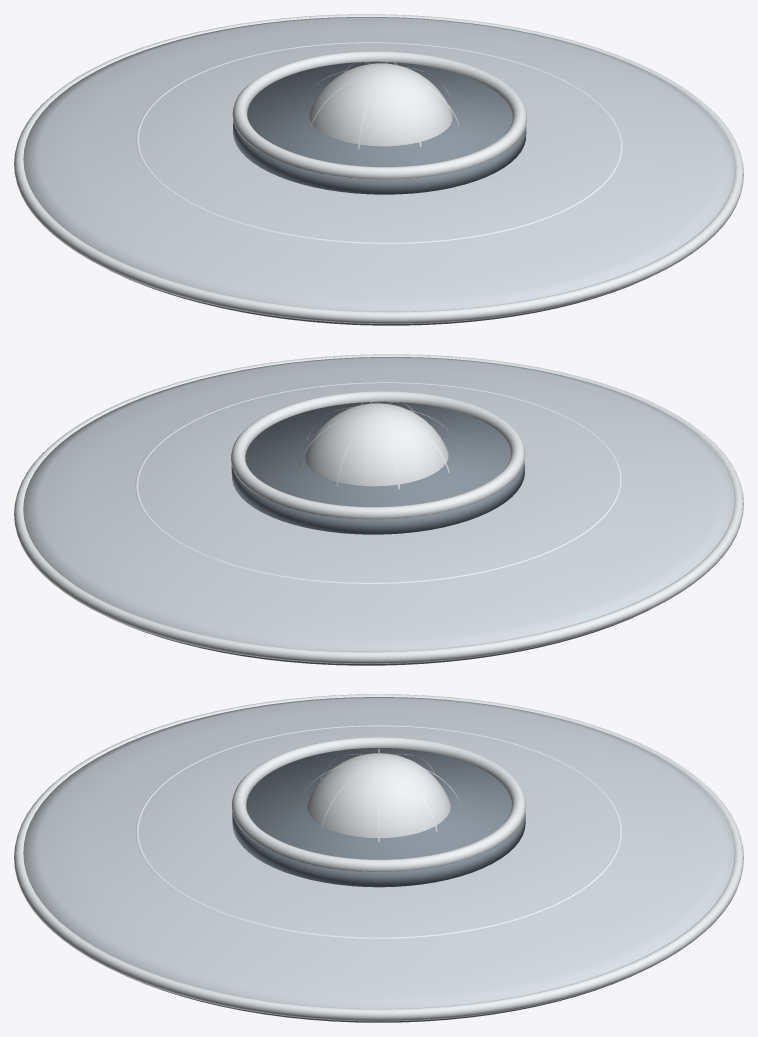
The model's file is Ufo.glb.
The picture shows the model from 3 angles, top to bottom: view 1: azimuth 30°, elevation 25°; view 2: azimuth 150°, elevation 25°; view 3: azimuth 270°, elevation 25°; orthographic projection.
Parts seen in each view (by area): view 1: Classic Flying Saucer Hull.001, Cockpit Circular Base, Chrome Outer Rim, Silver Dome Top, Cockpit Chrome Ring, Upper Hull Trim, Dark Rim Stripe; view 2: Classic Flying Saucer Hull.001, Cockpit Circular Base, Chrome Outer Rim, Silver Dome Top, Cockpit Chrome Ring, Upper Hull Trim, Dark Rim Stripe; view 3: Classic Flying Saucer Hull.001, Cockpit Circular Base, Chrome Outer Rim, Silver Dome Top, Cockpit Chrome Ring, Upper Hull Trim, Dark Rim Stripe.
Part boxes in pixels (<box>): Classic Flying Saucer Hull.001: <box>23,17,734,311</box>; Cockpit Circular Base: <box>233,61,526,194</box>; Chrome Outer Rim: <box>14,14,743,323</box>; Silver Dome Top: <box>309,63,452,146</box>; Cockpit Chrome Ring: <box>232,51,526,179</box>; Upper Hull Trim: <box>136,42,622,243</box>; Dark Rim Stripe: <box>110,270,646,325</box>; Classic Flying Saucer Hull.001: <box>23,357,734,651</box>; Cockpit Circular Base: <box>231,401,524,534</box>; Chrome Outer Rim: <box>14,354,743,663</box>; Silver Dome Top: <box>305,403,448,486</box>; Cockpit Chrome Ring: <box>231,391,525,519</box>; Upper Hull Trim: <box>135,382,621,583</box>; Dark Rim Stripe: <box>111,610,647,665</box>; Classic Flying Saucer Hull.001: <box>23,697,734,1008</box>; Cockpit Circular Base: <box>232,748,525,887</box>; Chrome Outer Rim: <box>14,694,743,1021</box>; Silver Dome Top: <box>307,753,450,837</box>; Cockpit Chrome Ring: <box>231,737,526,872</box>; Upper Hull Trim: <box>136,725,621,938</box>; Dark Rim Stripe: <box>126,976,631,1022</box>.
Bounding box in the file's own units: 9.88 × 2.28 × 9.88.
